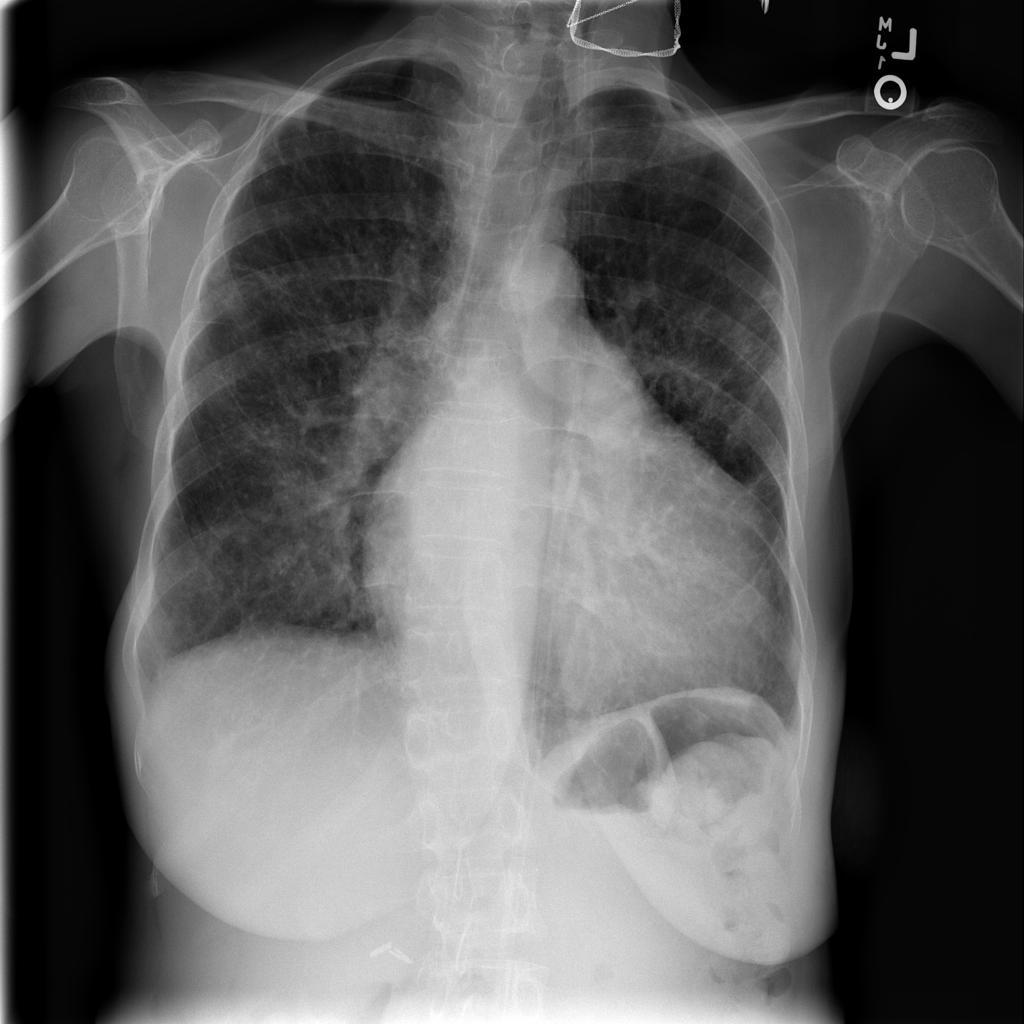Cardiomegaly: (329, 312, 796, 763)
